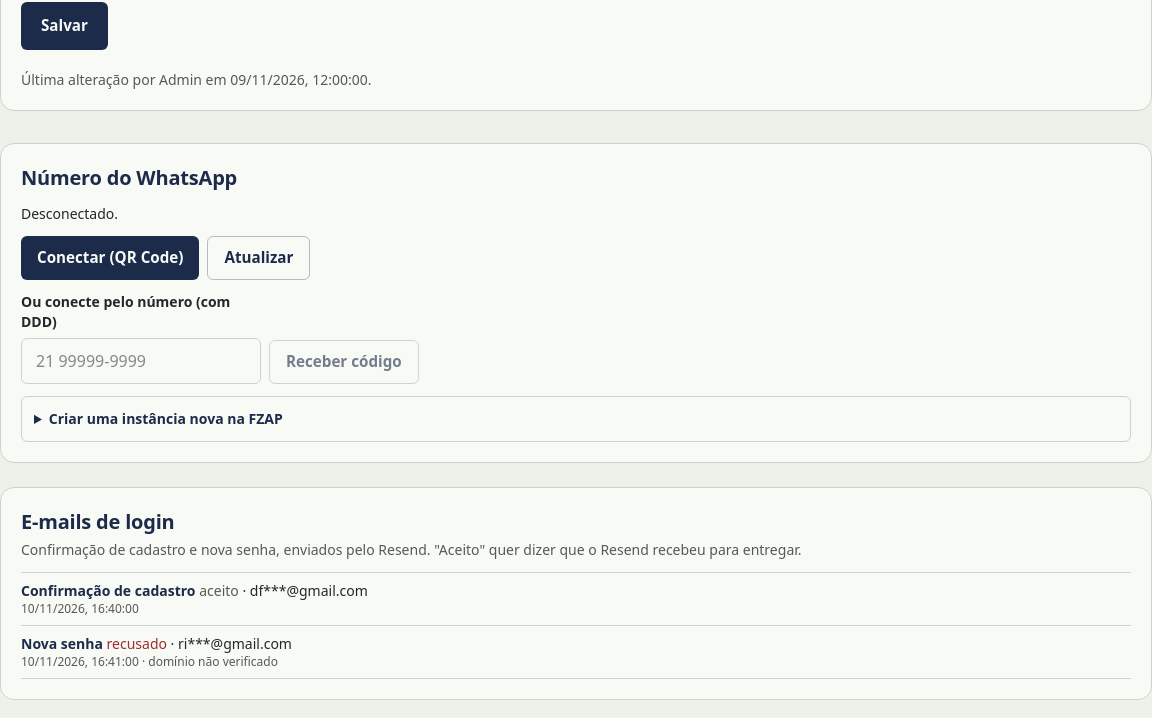
it: admin: e-mail e WhatsApp (ADR-064) › conecta pelo número: mostra o código para digitar no celular, sem QR
(page scrolled)
Type "21 97363-1728" into the field labelled "Ou conecte pelo número (com DDD)". click: {"x": 141, "y": 361}
box: [21,338,261,384]
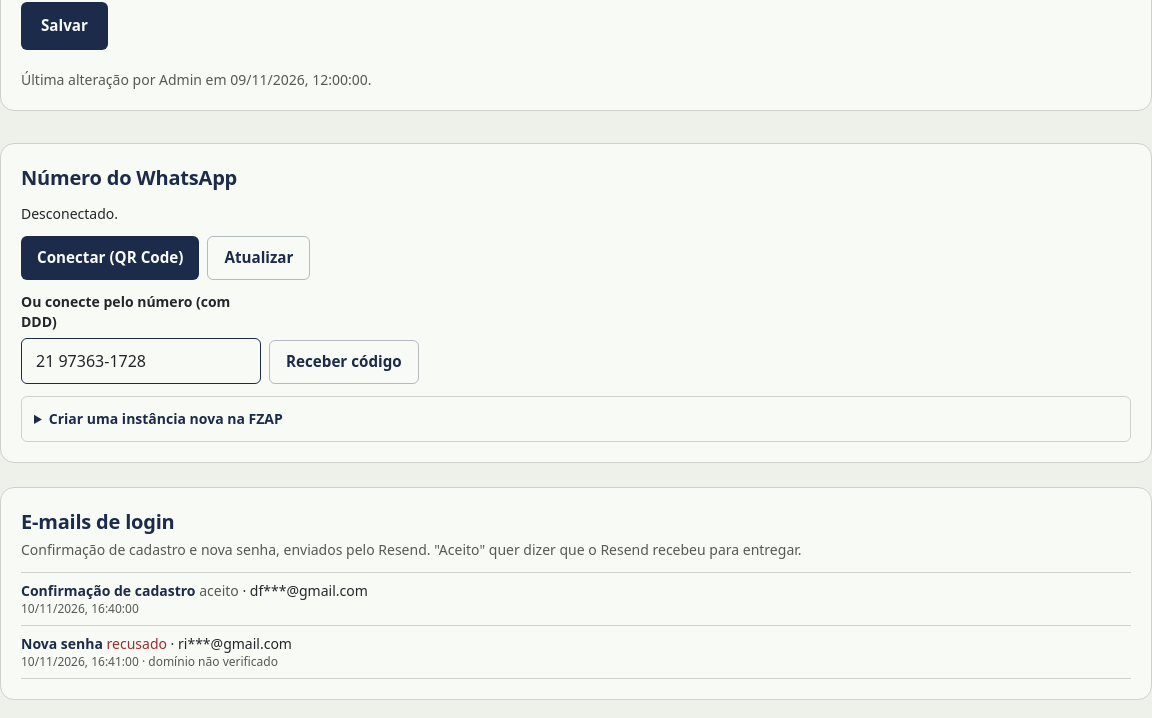
Click the button "Receber código". click: {"x": 344, "y": 362}
box: [269,340,419,384]
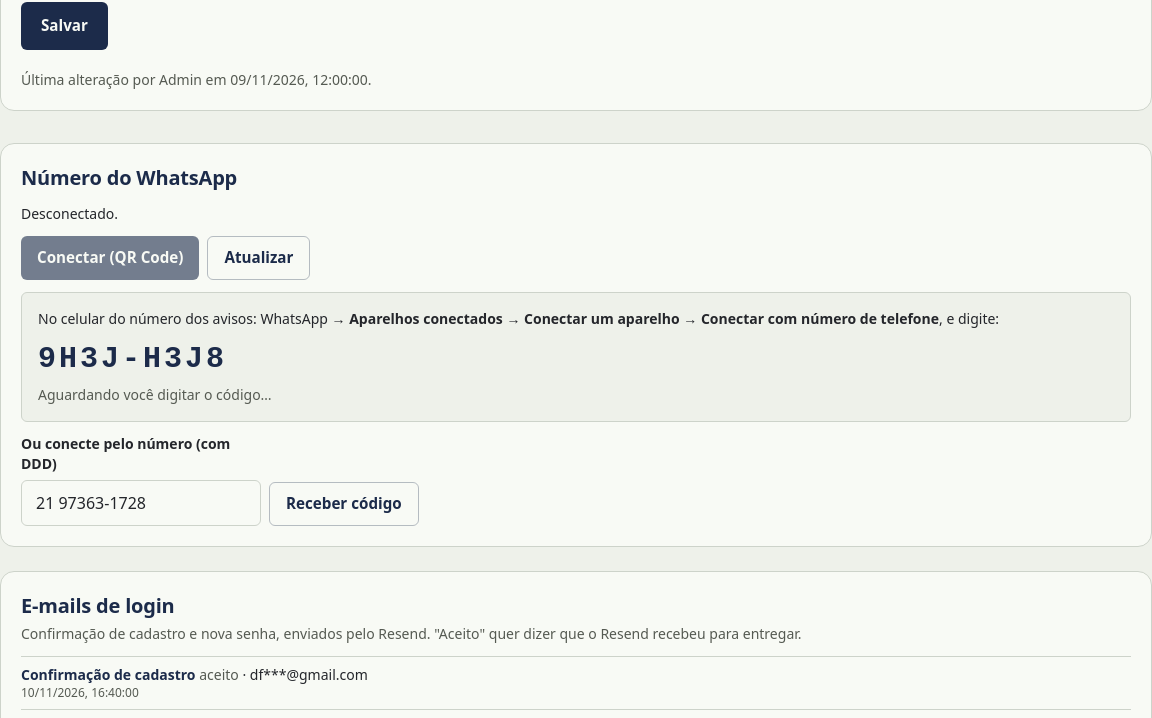
Expected: the text "9H3J-H3J8" is shown, [38,342,227,376]
Expected: the text "Conectar com número de telefone" is shown, [701,309,939,328]
